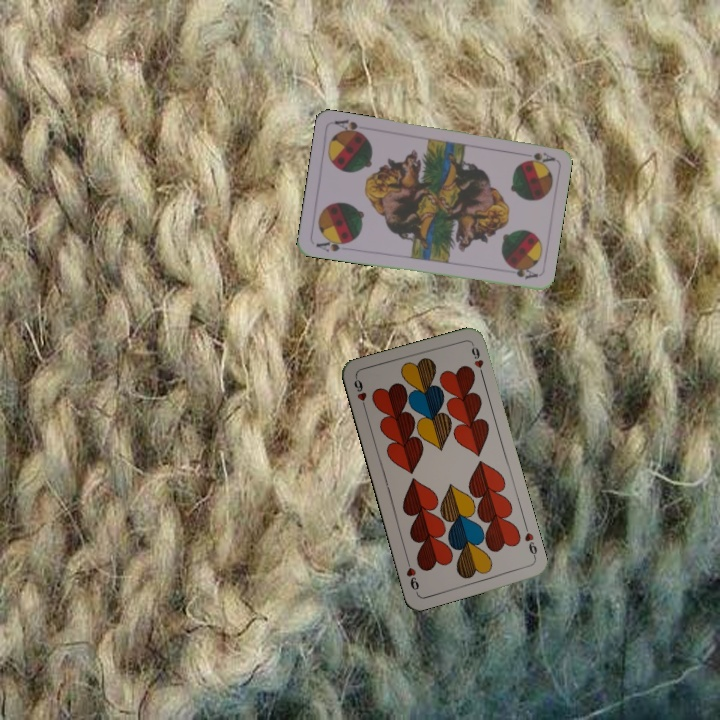H9: (350, 374, 369, 414), (521, 522, 540, 562)
SA: (312, 234, 353, 255), (521, 148, 556, 166)
